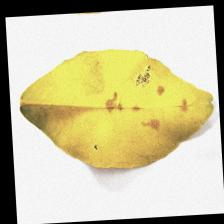black spot: (92, 63, 196, 137)
